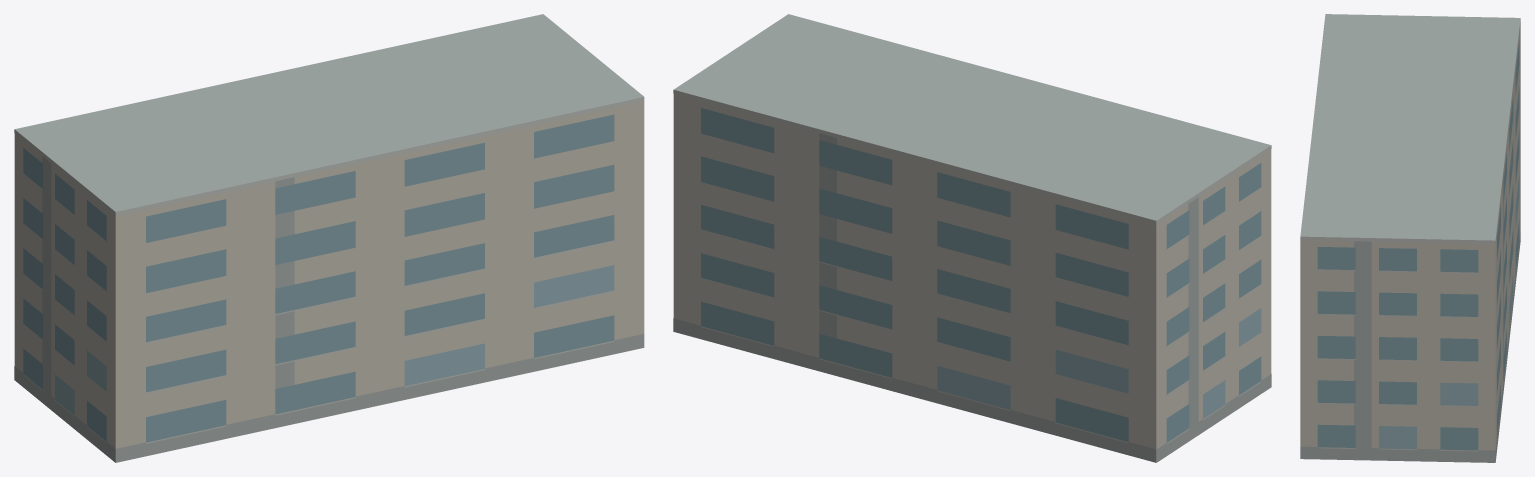
Rendered from residential-a1b4dc99-9b64-4ef8-95ab-334a1b8d4769.glb.
3 renders of one model, left to right at view 1: azimuth 30°, elevation 25°; view 2: azimuth 150°, elevation 25°; view 3: azimuth 270°, elevation 25°, orthographic. The views are drawn at different scales.
Parts seen in each view (by area): view 1: residential-a1b4dc99-9b64-4ef8-95ab-334a1b8d4769.tmp; view 2: residential-a1b4dc99-9b64-4ef8-95ab-334a1b8d4769.tmp; view 3: residential-a1b4dc99-9b64-4ef8-95ab-334a1b8d4769.tmp.
Boxes of the visible parts, <box> form: residential-a1b4dc99-9b64-4ef8-95ab-334a1b8d4769.tmp: <box>14,14,644,462</box>; residential-a1b4dc99-9b64-4ef8-95ab-334a1b8d4769.tmp: <box>673,14,1271,462</box>; residential-a1b4dc99-9b64-4ef8-95ab-334a1b8d4769.tmp: <box>1300,14,1520,462</box>.
Bounding box in the file's own units: 33.32 × 15.25 × 13.7.
